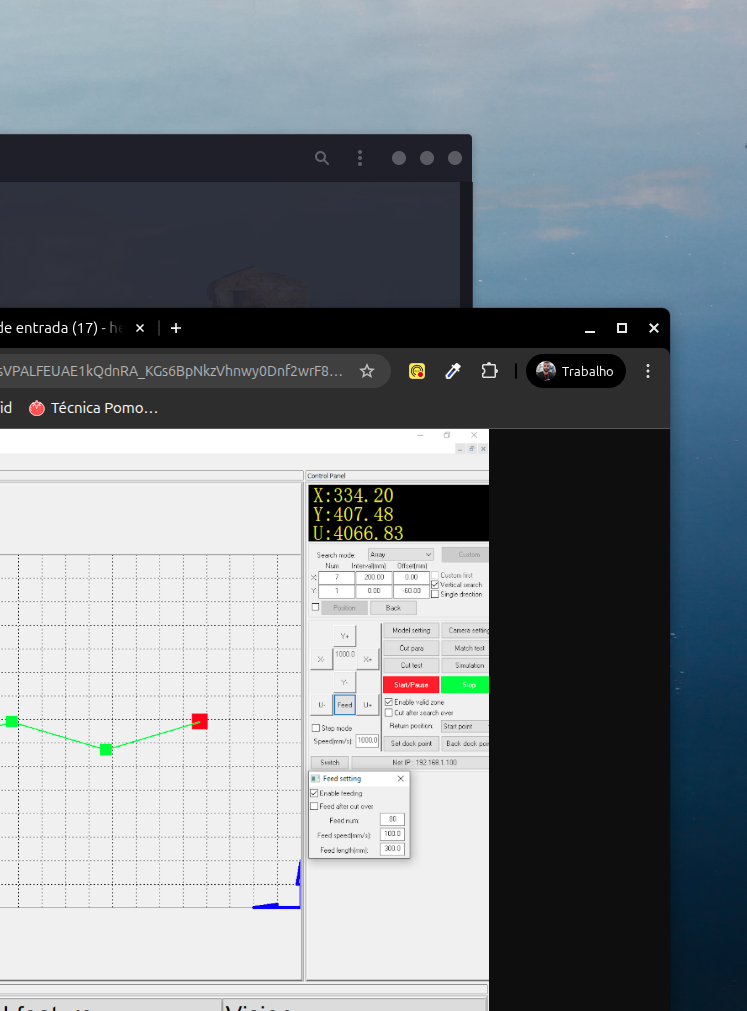start: (382, 675, 442, 693)
timer: (393, 562, 431, 600)
